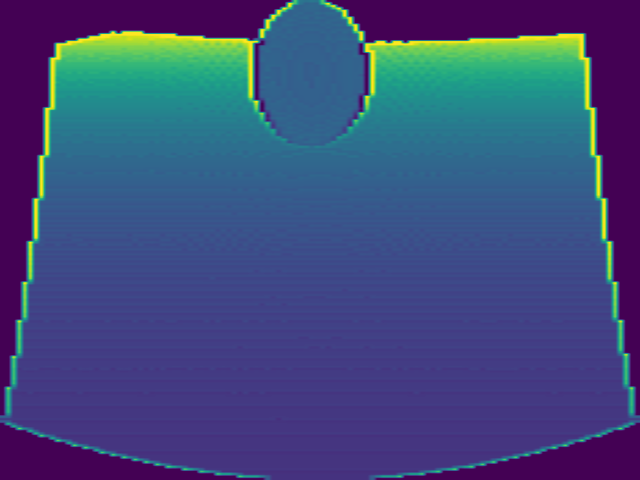sphere: (247, 2, 374, 150)
